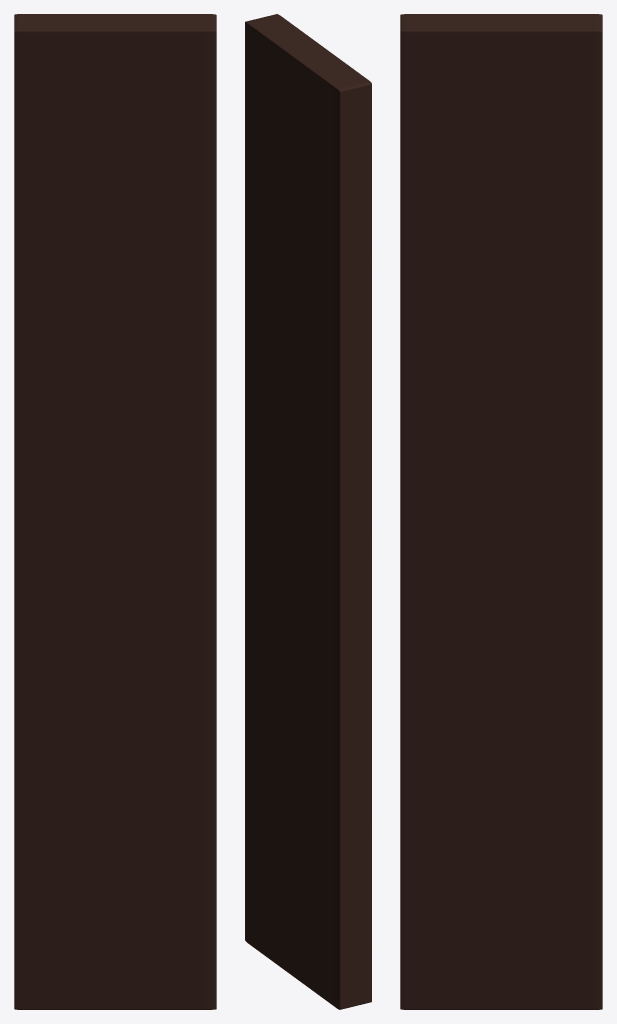
Rendered from CourtyardFin.fbx.
3 views of the same model, side by side, from view 1: azimuth 90°, elevation 25°; view 2: azimuth 210°, elevation 25°; view 3: azimuth 270°, elevation 25° (orthographic). The views are drawn at different scales.
Visible parts, largest first — view 1: CourtyardFin_HIgh; view 2: CourtyardFin_HIgh; view 3: CourtyardFin_HIgh.
Boxes of the visible parts, box(x1,y1,x2,y2) form: CourtyardFin_HIgh: box(14, 14, 216, 1009); CourtyardFin_HIgh: box(245, 14, 371, 1009); CourtyardFin_HIgh: box(400, 14, 602, 1009).
Size of the model in its own units: 0.3 by 8 by 1.5.
